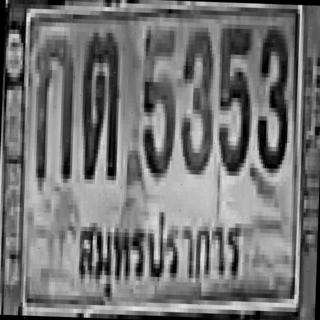A01: (31, 34, 74, 178)
A21: (78, 30, 119, 178)
N03: (178, 26, 214, 170), (254, 25, 289, 168)
N05: (138, 25, 177, 174), (214, 24, 251, 172)
P57: (74, 203, 244, 311)
